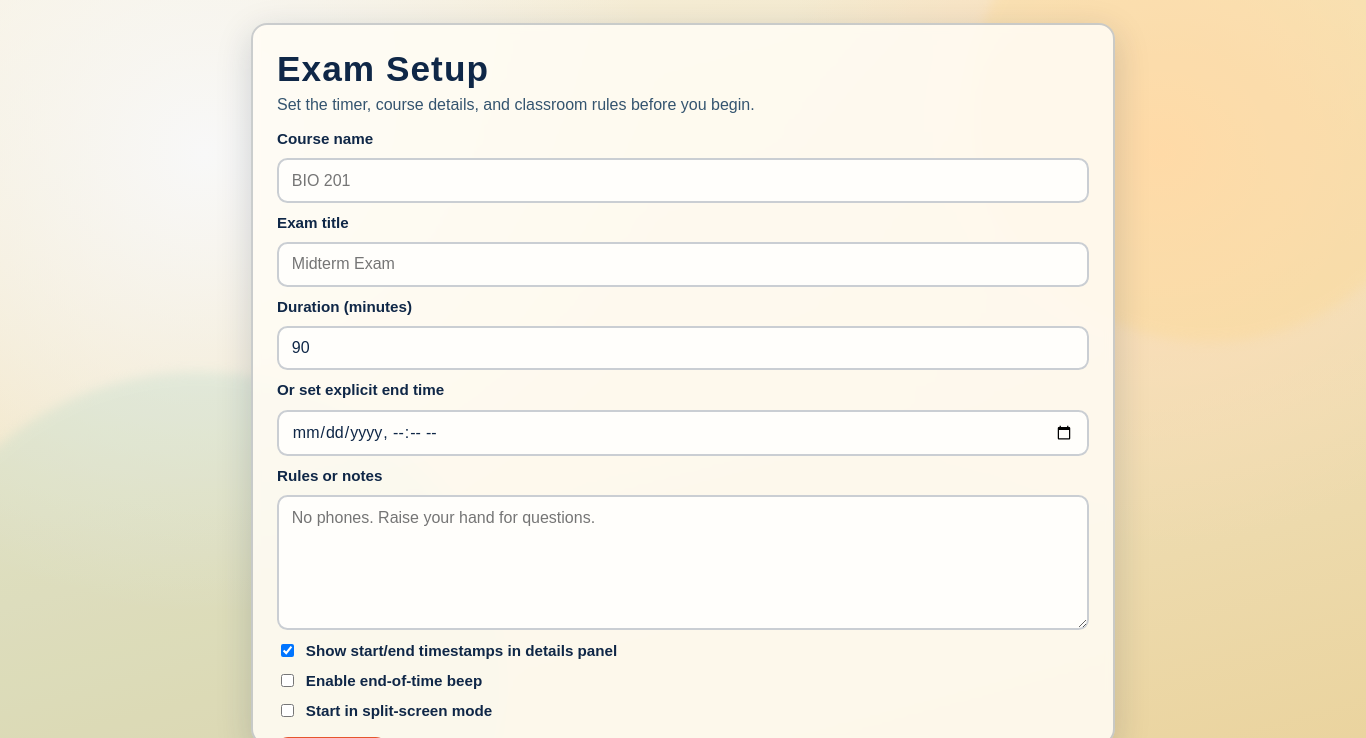
Test: App › starts an exam and toggles split details
The width and height of the screenshot is (1366, 738).
Type "HIST 220" into the field labelled "Course name" at (683, 181), box 277,158 -> 1089,203
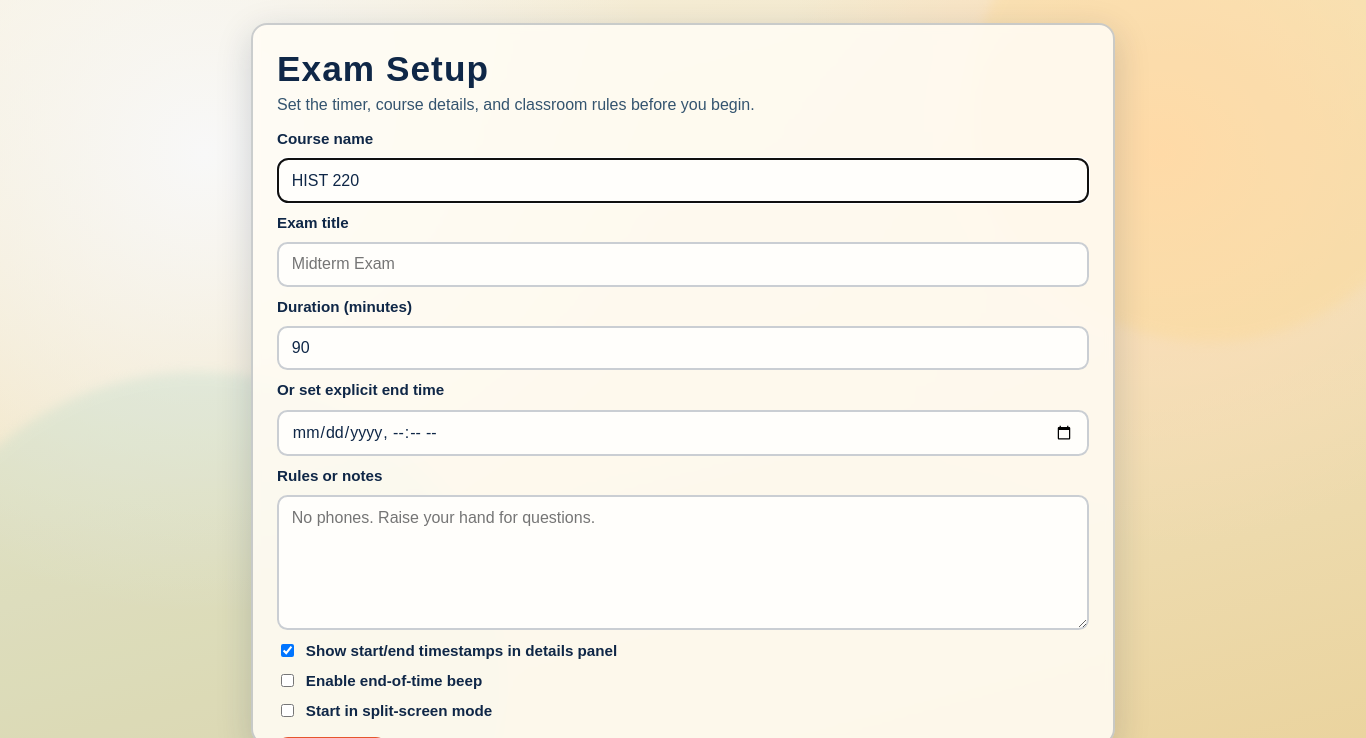
Type "Unit Test 1" into the field labelled "Exam title" at (683, 264), box 277,242 -> 1089,287
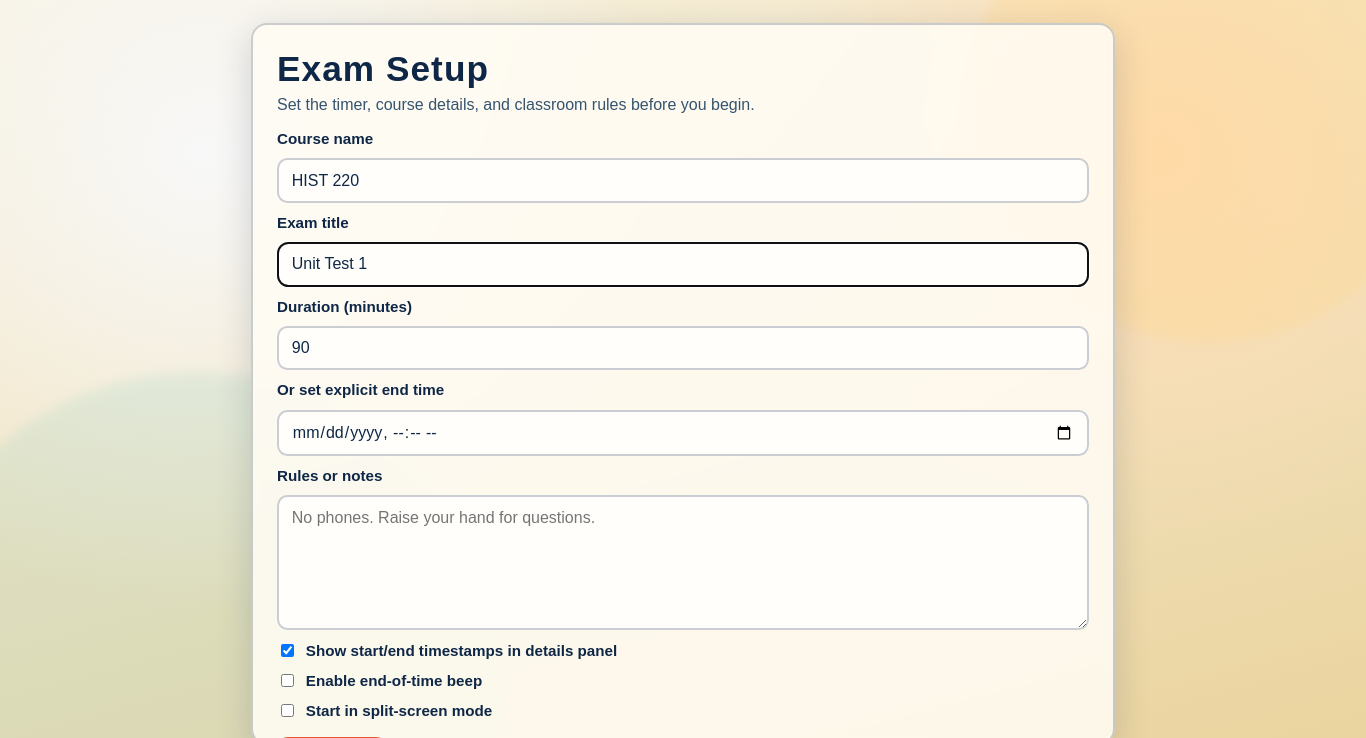
Replace the text in the number field labelled "Duration (minutes)" with "60" at (683, 348), box 277,326 -> 1089,370
(page scrolled)
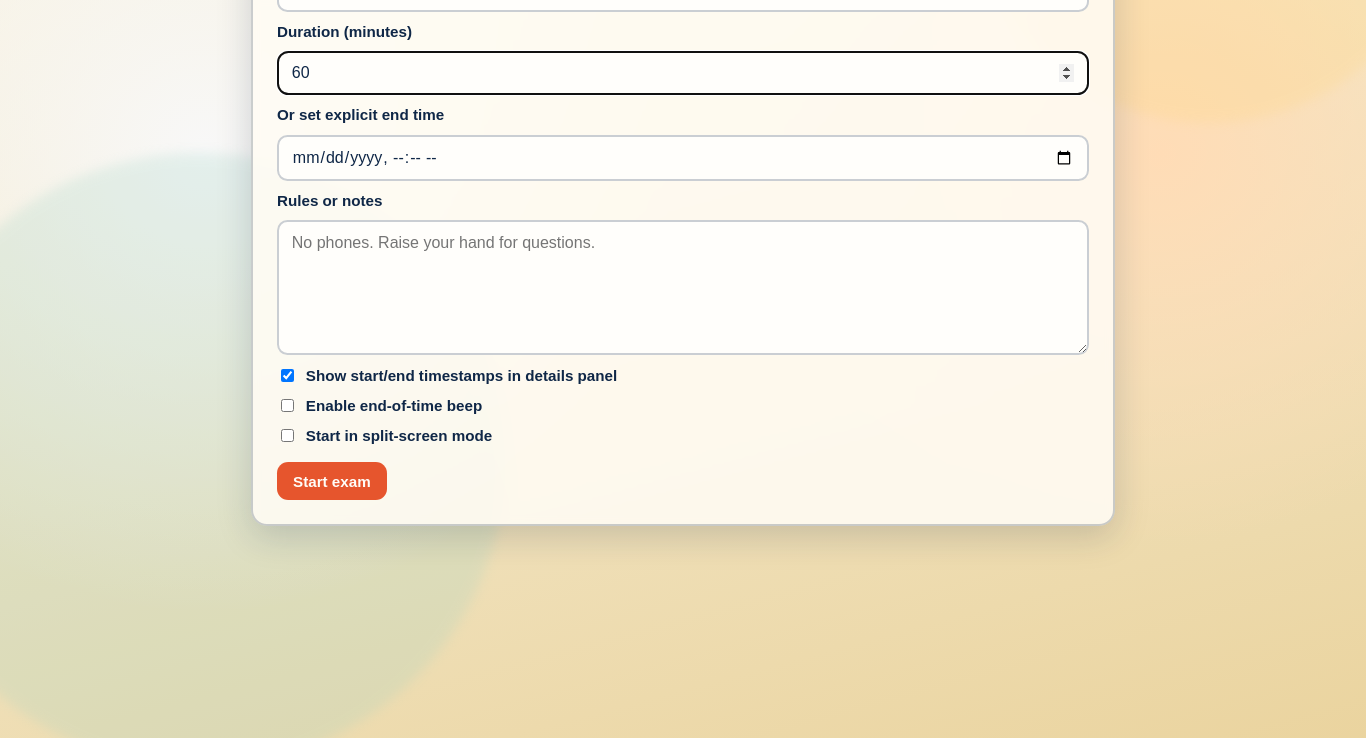
Click the button "Start exam" at (332, 481), box 277,462 -> 387,500
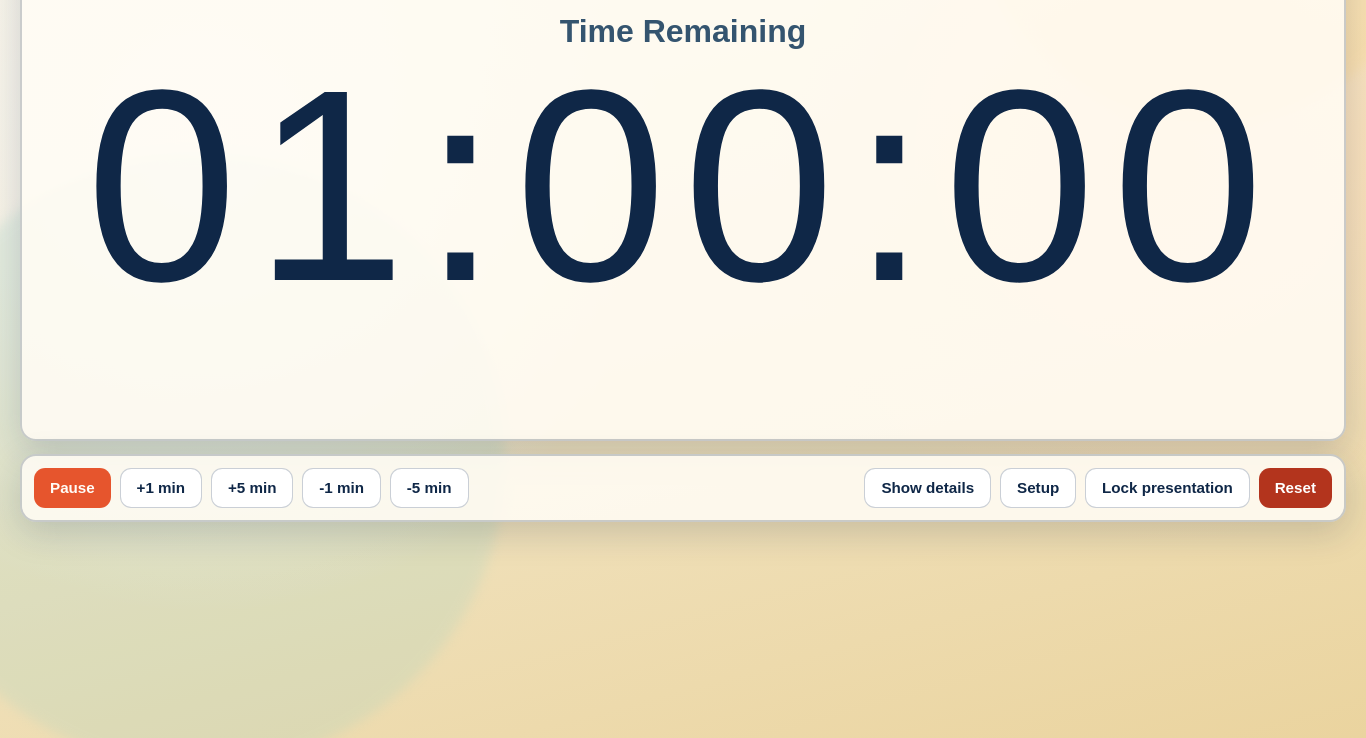
Expected: the heading "Rules & Notes" is not shown
Click the button "Show details" at (928, 488), box 864,468 -> 991,508
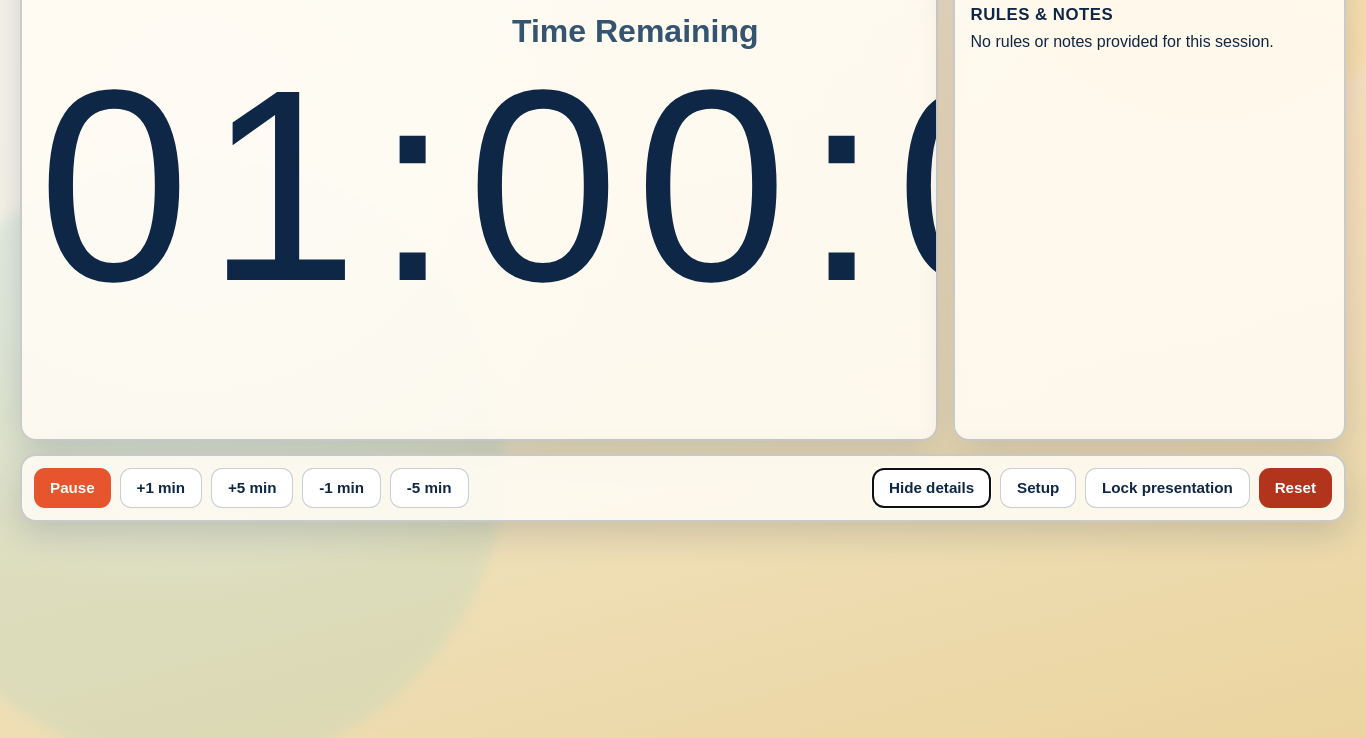
Expected: the heading "Rules & Notes" is shown, 970,5 -> 1113,24
